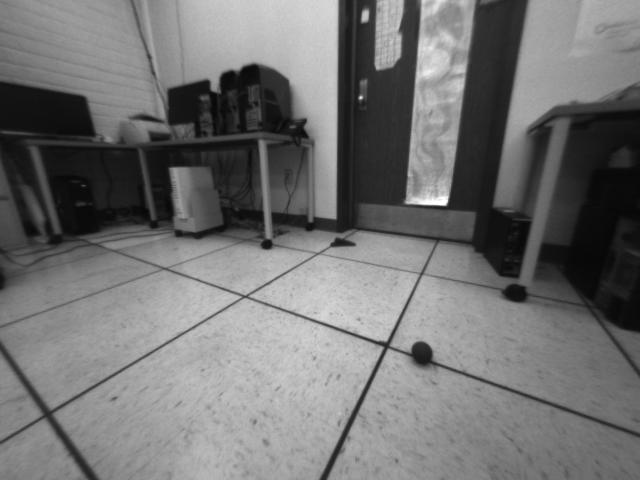dogtoy: (404, 336, 442, 371)
